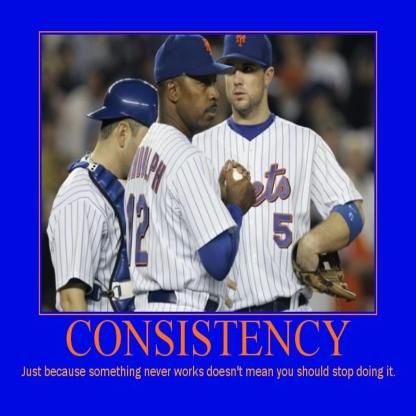face: (181, 61, 221, 129), (126, 106, 158, 182), (225, 49, 261, 115)
